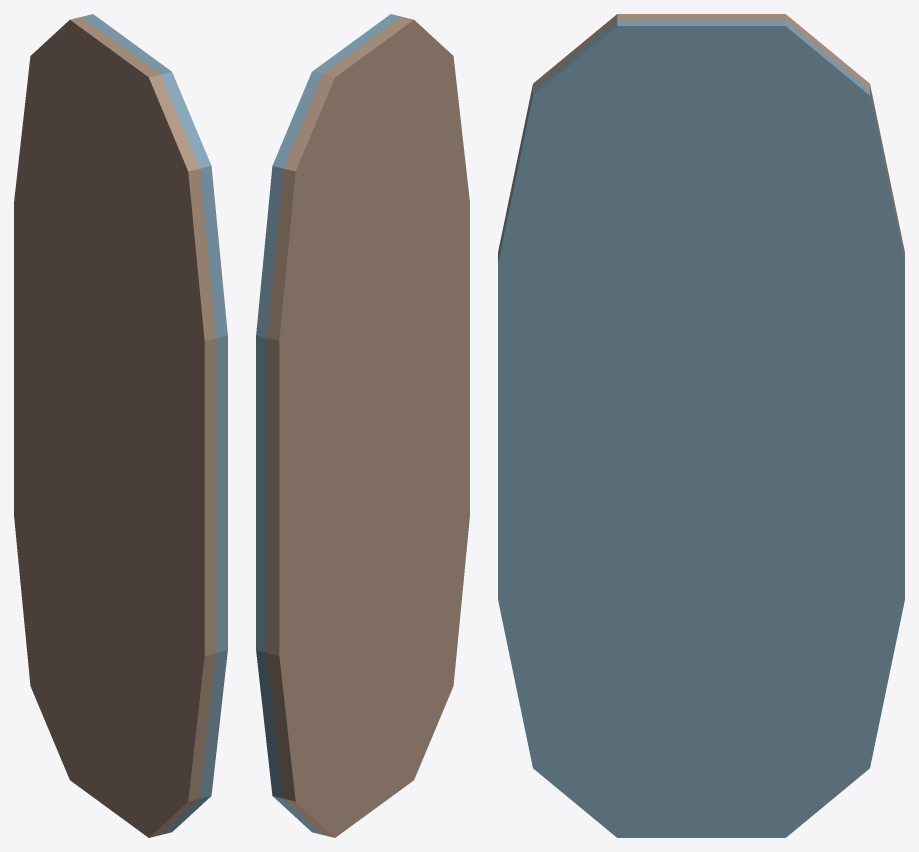
The model's file is Mirror_6.fbx.
3 views of the same model, side by side, from view 1: azimuth 30°, elevation 25°; view 2: azimuth 150°, elevation 25°; view 3: azimuth 270°, elevation 25° (orthographic). The views are drawn at different scales.
Visible parts, largest first — view 1: Mirror_6; view 2: Mirror_6; view 3: Mirror_6.
Boxes of the visible parts, x1,y1,x2,y2 form: Mirror_6: (14,14,227,837); Mirror_6: (256,14,469,837); Mirror_6: (498,14,904,837).
Bounding box in the file's own units: 7.6 × 108 × 237.
